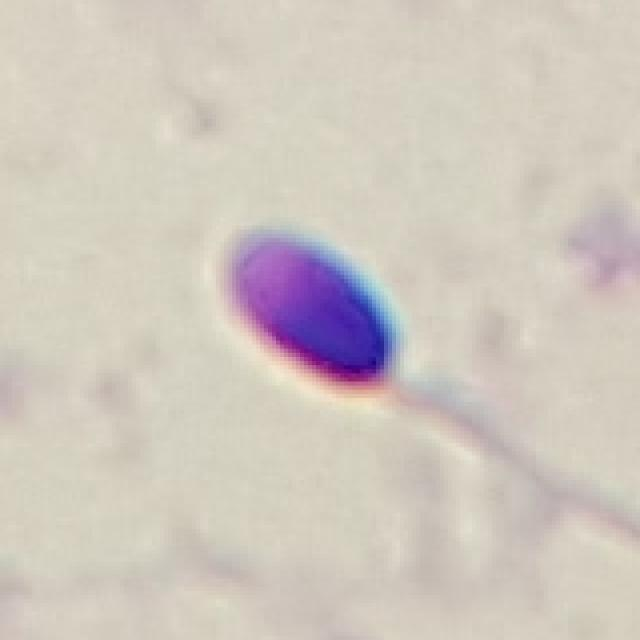normal sperm: (224, 231, 461, 437)
